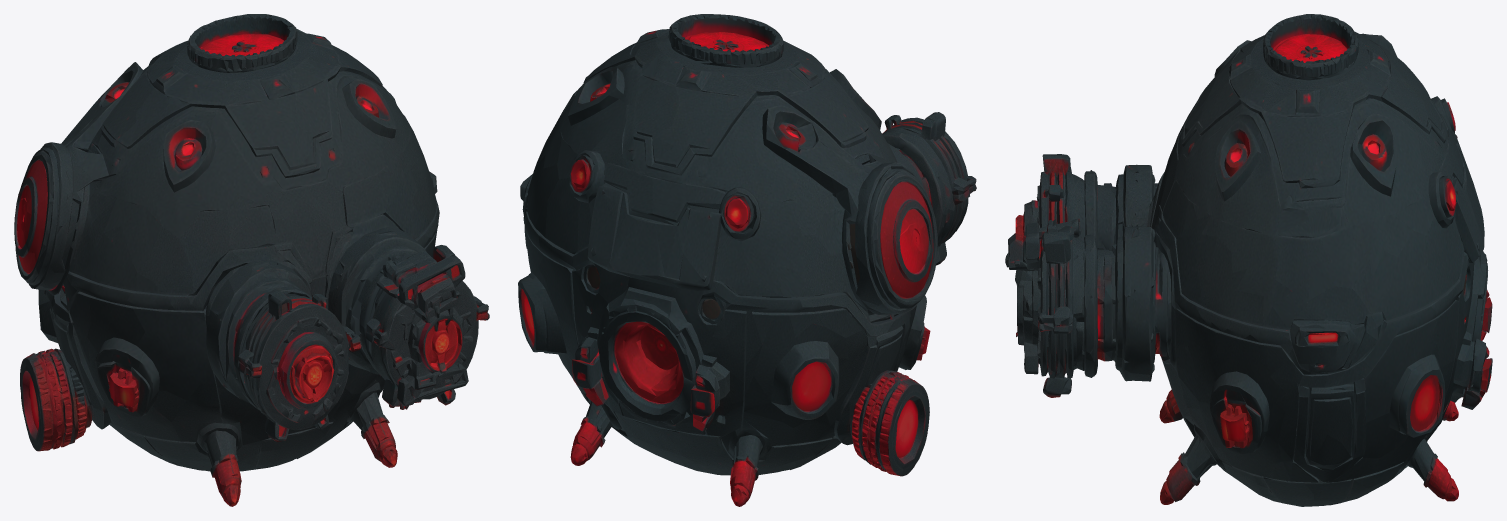
The model's file is recon_drone.glb.
3 views of the same model, side by side, from view 1: azimuth 30°, elevation 25°; view 2: azimuth 150°, elevation 25°; view 3: azimuth 270°, elevation 25° (orthographic). The views are drawn at different scales.
Bounding box in the file's own units: 2.8 × 2.8 × 2.8.
1 material, 1 textured.
